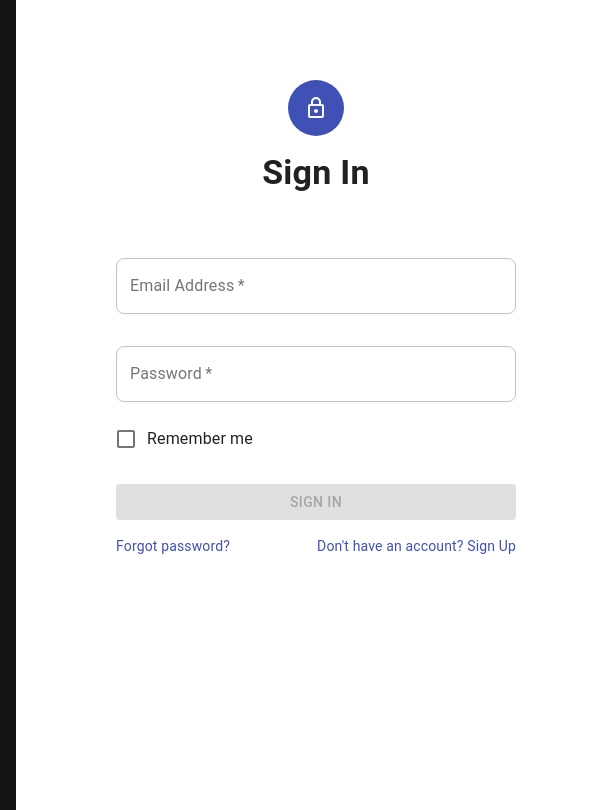
Test case: LoginForm Component › should show validation errors for invalid inputs
Type "invalid-email" into the field labelled "Email Address *".
click(316, 286); type("invalid-email")  # box x1=116 y1=258 x2=516 y2=314
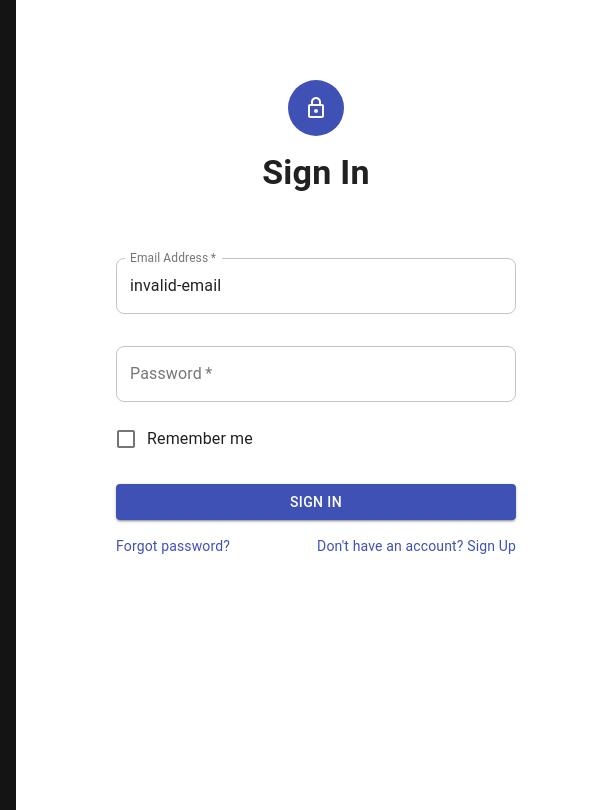
Type "weak" into the password field labelled "Password *".
click(316, 374); type("weak")  # box x1=116 y1=346 x2=516 y2=402
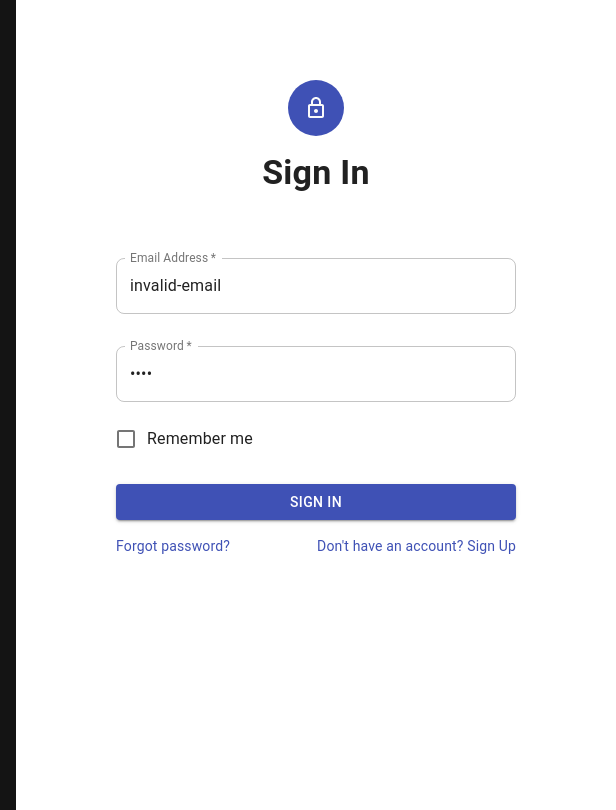
Leave the password field labelled "Password *", box x1=116 y1=346 x2=516 y2=402
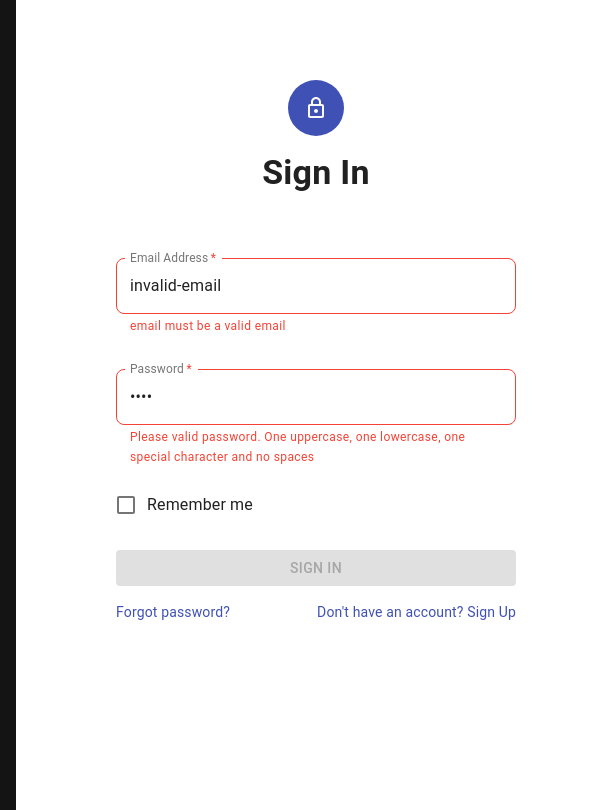
expect the text "email must be a valid email" is shown: met, box x1=130 y1=319 x2=286 y2=333
expect the text "Please valid password. One uppercase, one lowercase, one special character and no spaces" is shown: met, box x1=130 y1=430 x2=465 y2=464
